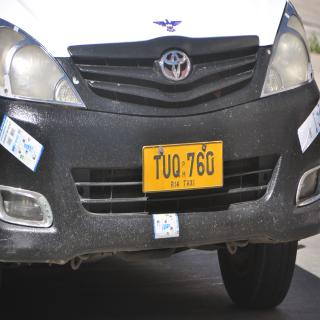license: (144, 142, 224, 193)
